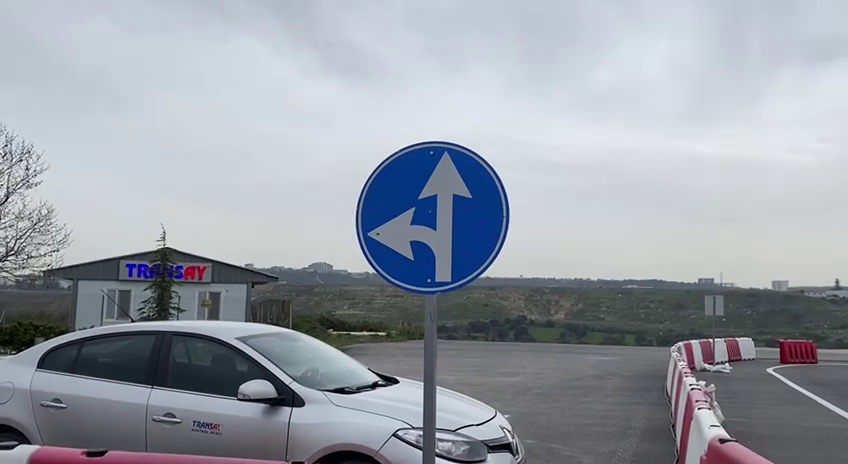forwardAndLeft: (351, 137, 513, 296)
